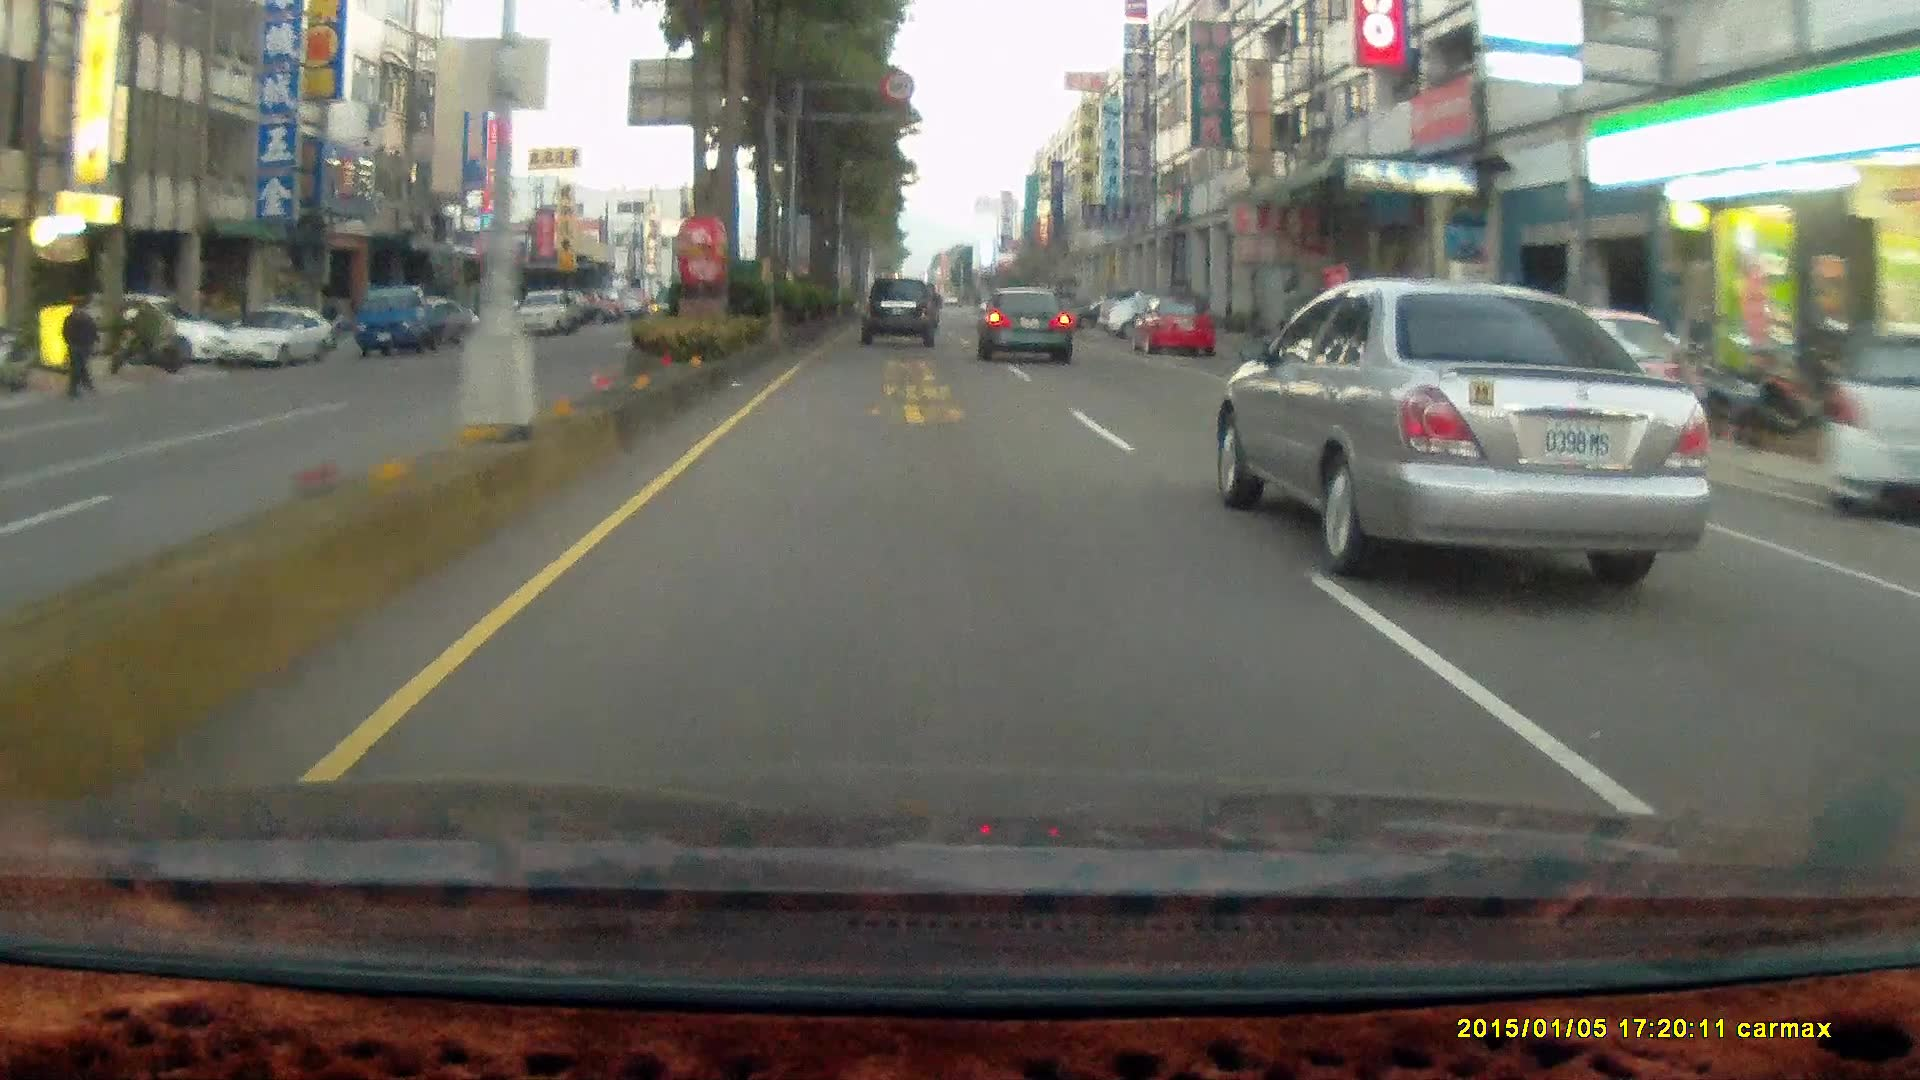pedestrian: (60, 301, 95, 400), (60, 303, 94, 402)
vehicle: (1227, 286, 1723, 577), (1499, 317, 1706, 461), (1480, 311, 1683, 456), (1818, 325, 1920, 522), (1312, 302, 1493, 393), (83, 295, 224, 368), (211, 307, 336, 375), (979, 300, 1076, 379), (975, 285, 1072, 361), (214, 313, 333, 374), (357, 287, 463, 356), (353, 283, 446, 355), (860, 279, 940, 352), (861, 277, 939, 347), (1133, 303, 1220, 362), (1131, 300, 1217, 360), (1097, 293, 1200, 342), (387, 296, 474, 344), (514, 288, 573, 336)
